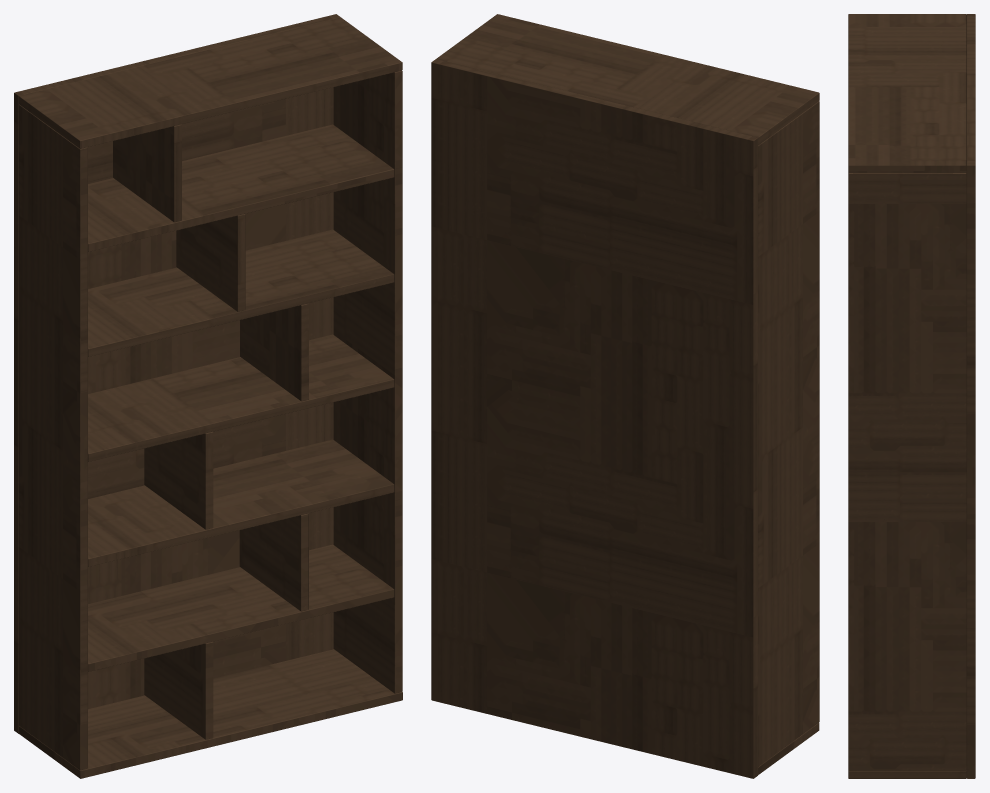
Rendered from library_storage (1).glb.
3 views of the same model, side by side, from view 1: azimuth 30°, elevation 25°; view 2: azimuth 150°, elevation 25°; view 3: azimuth 270°, elevation 25° (orthographic). The views are drawn at different scales.
Visible parts, largest first — view 1: Library_storage; view 2: Library_storage; view 3: Library_storage.
Boxes of the visible parts, left/top/right/bottom form: Library_storage: left=14, top=14, right=402, bottom=778; Library_storage: left=431, top=14, right=819, bottom=778; Library_storage: left=848, top=14, right=975, bottom=778.
Size of the model in its own units: 1.02 by 1.92 by 0.3608.
Materials: 1 (1 with a texture image).
